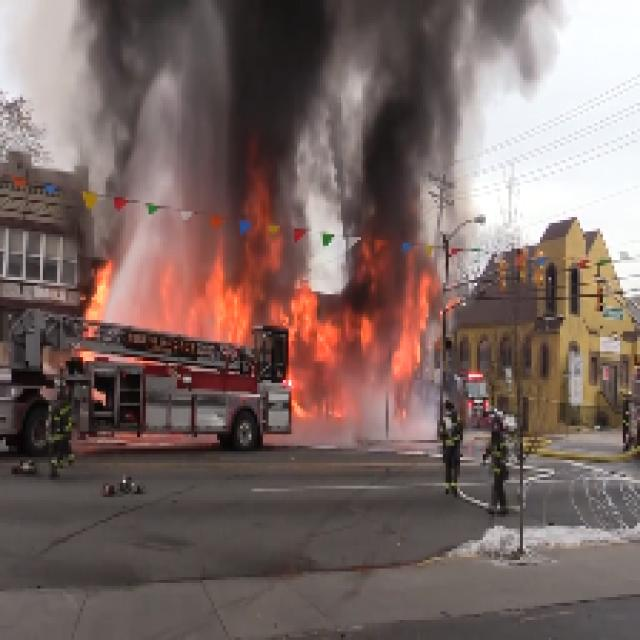smoke: (71, 3, 554, 205)
